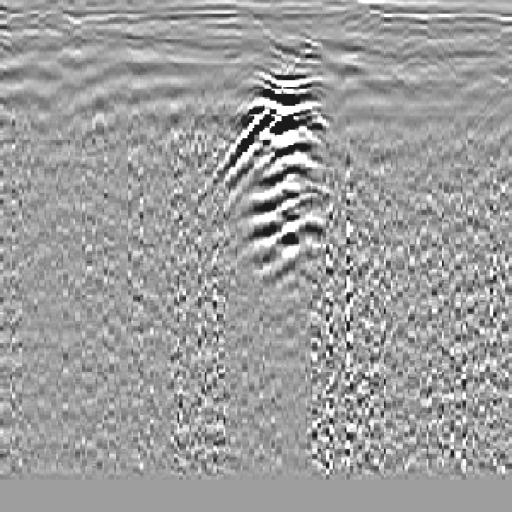metalic: (223, 38, 341, 305)
